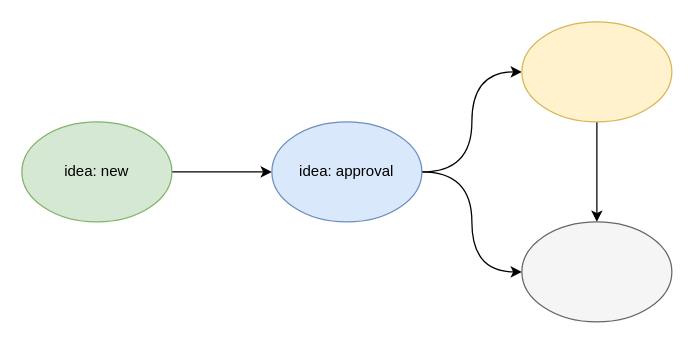
Some shapes in this 694 by 344 pixel diagram are drawn without their labels. Each missing label, with the box of its shape:
project: initialized: (521, 21, 672, 122)
rejected: (521, 221, 672, 322)
